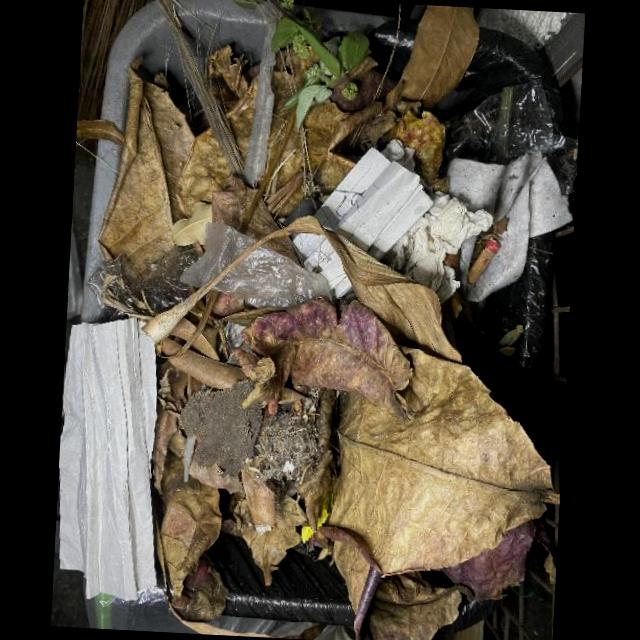giay: (60, 318, 158, 603), (314, 148, 433, 261), (293, 233, 352, 299)
la_cay: (326, 349, 560, 577), (141, 216, 463, 363), (98, 56, 230, 272), (240, 298, 414, 420), (319, 528, 475, 640), (212, 106, 296, 241), (397, 5, 479, 112), (441, 519, 542, 602), (233, 490, 307, 586), (161, 484, 222, 599), (170, 606, 323, 640), (171, 559, 229, 623), (167, 349, 248, 390), (157, 338, 183, 357)
tui_ni_long: (212, 245, 342, 319), (179, 223, 257, 289)
